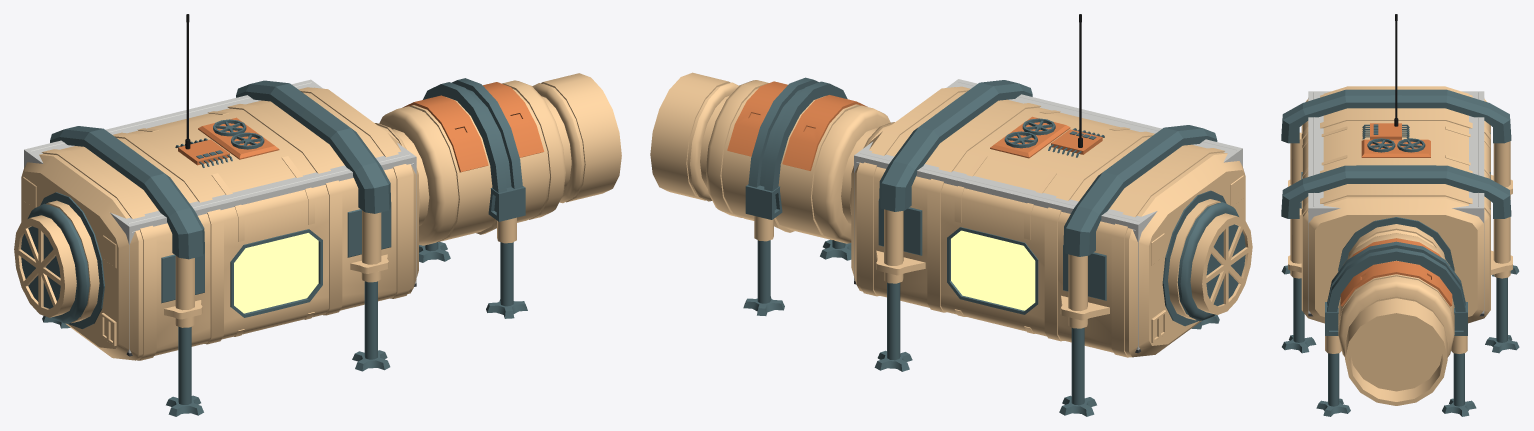
The model's file is colony_dock_pod.fbx.
The picture shows the model from 3 angles, left to right: view 1: azimuth 30°, elevation 25°; view 2: azimuth 150°, elevation 25°; view 3: azimuth 270°, elevation 25°; orthographic projection. The views are drawn at different scales.
Parts seen in each view (by area): view 1: DockPod.MC.Cube.045, DockPod.stub0.Cylinder.023, DockPod.MC.Liner, DockPod.MC.Cube.046, DockPod.MC.Cylinder.053, DockPod.stub0.Cylinder.024, DockPod.stub0.Cylinder.025, DockPod.MC.Cube.049, DockPod.MC.Cube.047, DockPod.MC.Cube.050, DockPod.MC.Cube.048, DockPod.MC.Cylinder.052 (+13 smaller); view 2: DockPod.MC.Cube.045, DockPod.stub0.Cylinder.023, DockPod.MC.Liner, DockPod.MC.Cube.046, DockPod.MC.Cylinder.053, DockPod.stub0.Cylinder.024, DockPod.stub0.Cylinder.025, DockPod.MC.Cube.049, DockPod.MC.Cube.047, DockPod.MC.Cube.050, DockPod.MC.Cube.048, DockPod.MC.Cylinder.052 (+15 smaller); view 3: DockPod.MC.Cube.045, DockPod.stub0.Cylinder.023, DockPod.MC.Cube.046, DockPod.MC.Cylinder.051, DockPod.stub0.Cylinder.025, DockPod.MC.Liner, DockPod.stub0.Cylinder.026, DockPod.stub0.Cylinder.024, DockPod.MC.Cube.048, DockPod.MC.Cylinder.052, DockPod.MC.Cube.050, DockPod.MC.Cylinder.039 (+10 smaller).
Boxes of the visible parts, x1,y1,x2,y2 form: DockPod.MC.Cube.045: (21, 87, 418, 360); DockPod.stub0.Cylinder.023: (375, 73, 621, 245); DockPod.MC.Liner: (24, 79, 416, 356); DockPod.MC.Cube.046: (50, 80, 391, 259); DockPod.MC.Cylinder.053: (14, 200, 99, 323); DockPod.stub0.Cylinder.024: (402, 82, 544, 172); DockPod.stub0.Cylinder.025: (423, 78, 522, 192); DockPod.MC.Cube.049: (227, 104, 342, 315); DockPod.MC.Cube.047: (41, 149, 156, 360); DockPod.MC.Cube.050: (113, 132, 223, 344); DockPod.MC.Cube.048: (298, 87, 409, 298); DockPod.MC.Cylinder.052: (42, 255, 203, 416); DockPod.MC.Cube.045: (851, 87, 1245, 357); DockPod.stub0.Cylinder.023: (650, 72, 894, 243); DockPod.MC.Liner: (854, 79, 1242, 353); DockPod.MC.Cube.046: (879, 80, 1217, 256); DockPod.MC.Cylinder.053: (1168, 199, 1252, 321); DockPod.stub0.Cylinder.024: (727, 81, 867, 170); DockPod.stub0.Cylinder.025: (748, 77, 847, 191); DockPod.MC.Cube.049: (927, 103, 1040, 312); DockPod.MC.Cube.047: (1111, 148, 1224, 357); DockPod.MC.Cube.050: (1044, 131, 1154, 341); DockPod.MC.Cube.048: (860, 86, 970, 296); DockPod.MC.Cylinder.052: (1059, 254, 1219, 416); DockPod.MC.Cube.045: (1303, 86, 1489, 323); DockPod.stub0.Cylinder.023: (1338, 224, 1454, 405); DockPod.MC.Cube.046: (1281, 89, 1511, 218); DockPod.MC.Cylinder.051: (1282, 208, 1519, 353); DockPod.stub0.Cylinder.025: (1327, 241, 1465, 311); DockPod.MC.Liner: (1308, 91, 1484, 316); DockPod.stub0.Cylinder.026: (1316, 336, 1476, 416); DockPod.stub0.Cylinder.024: (1340, 238, 1452, 306); DockPod.MC.Cube.048: (1301, 190, 1490, 311); DockPod.MC.Cylinder.052: (1281, 132, 1519, 276); DockPod.MC.Cube.050: (1301, 114, 1490, 178); DockPod.MC.Cylinder.039: (1338, 217, 1454, 271).
Size of the model in its own units: 2560 by 1493 by 1148.
